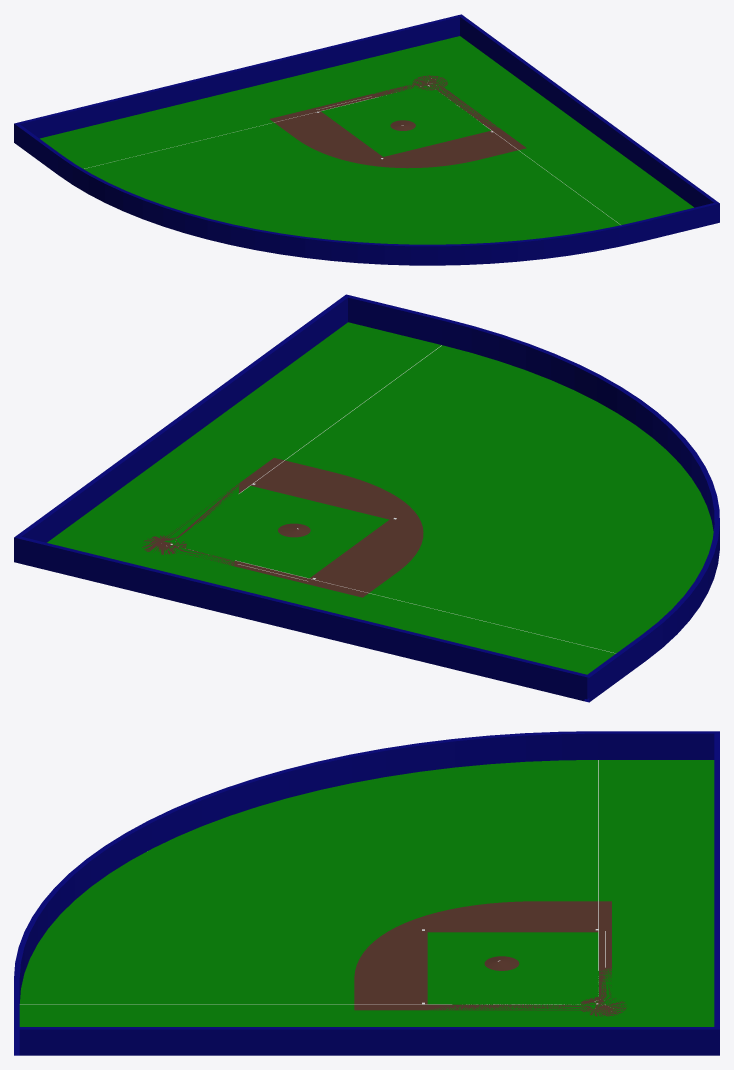
The model's file is Stadium1.fbx.
The picture shows the model from 3 angles, top to bottom: view 1: azimuth 30°, elevation 25°; view 2: azimuth 150°, elevation 25°; view 3: azimuth 270°, elevation 25°; orthographic projection. The views are drawn at different scales.
Visible parts, largest first — view 1: Circle.001, Circle; view 2: Circle.001, Circle; view 3: Circle.001, Circle.
Part boxes in pixels (x1,y1,x2,y2): Circle.001: [40, 36, 693, 244]; Circle: [14, 14, 719, 265]; Circle.001: [47, 322, 713, 674]; Circle: [14, 294, 719, 702]; Circle.001: [19, 760, 714, 1026]; Circle: [14, 731, 719, 1055].
Bounding box in the file's own units: 366 × 15 × 366.
